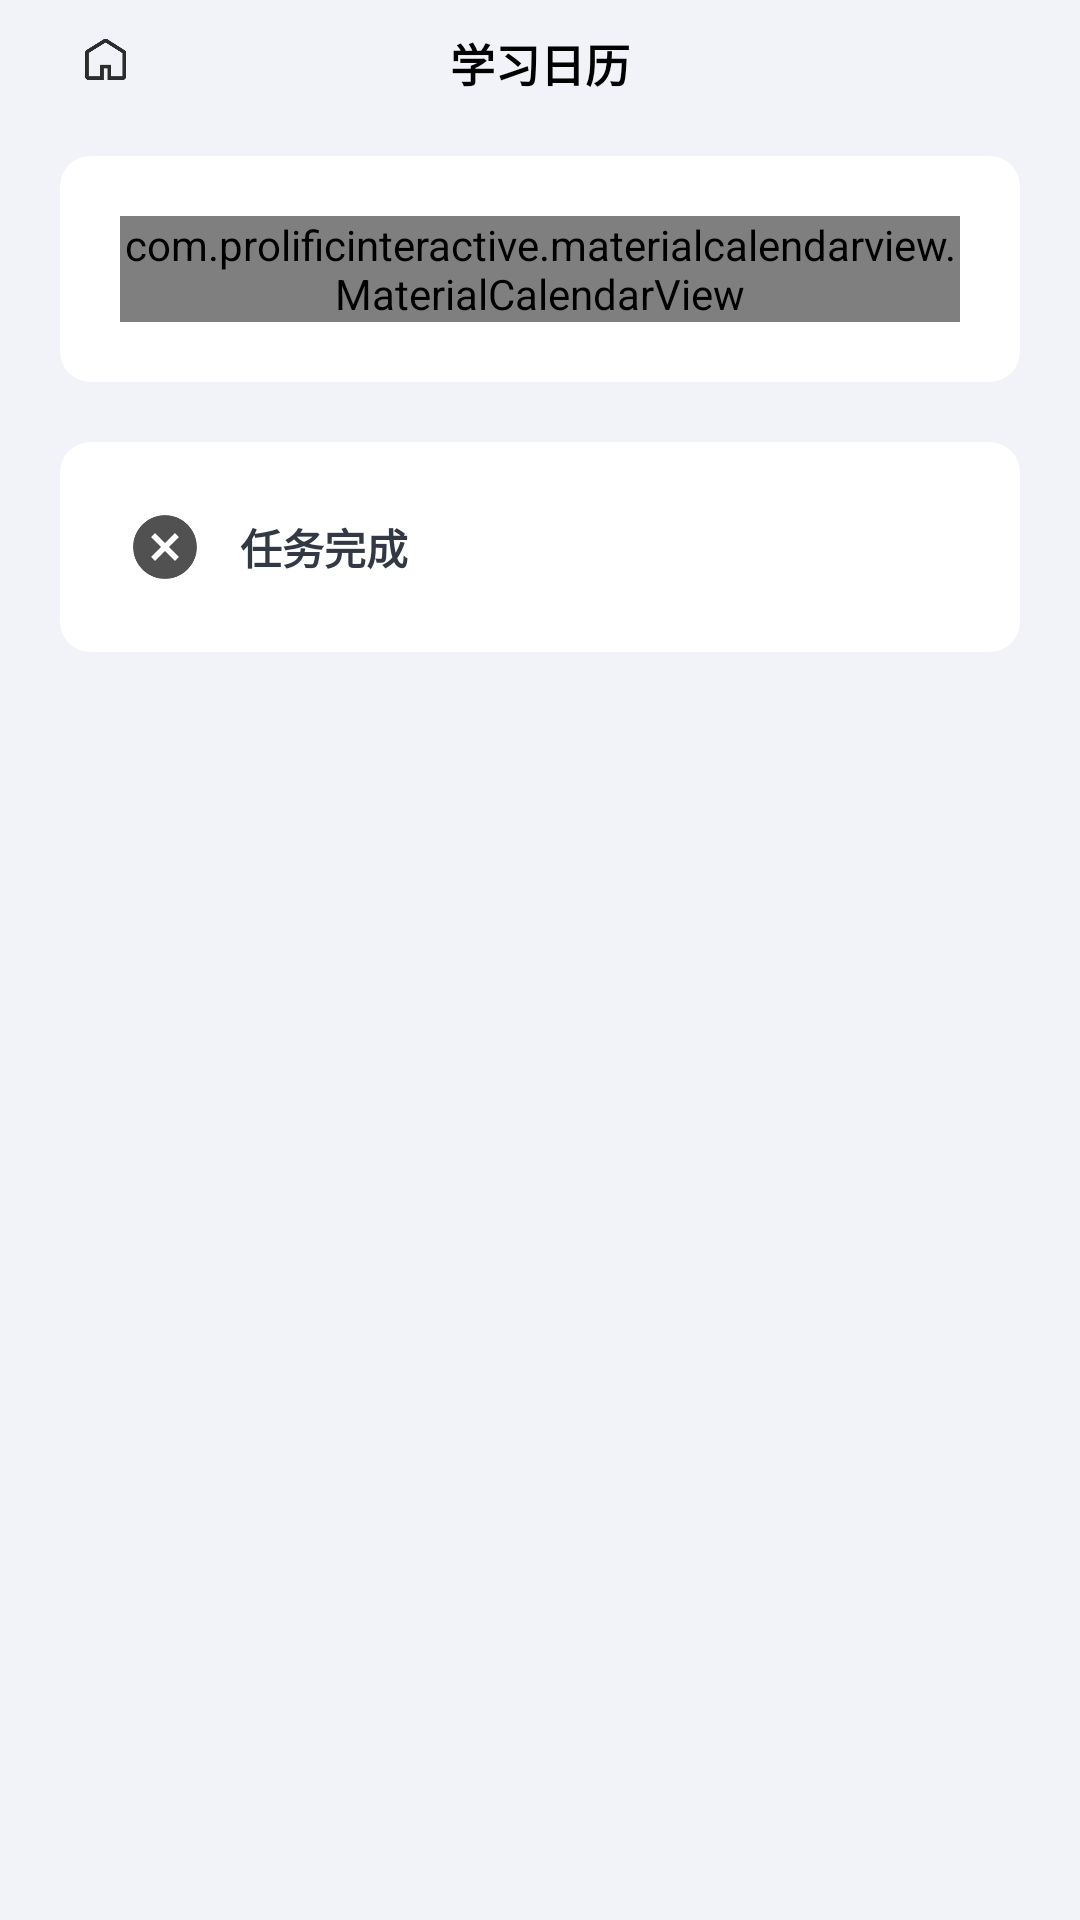

Where icons sit on this 1080 x 1920 app screen, as (x1, y1, x2, y2):
home: (85, 39, 126, 80)
no done: (133, 515, 197, 579)
